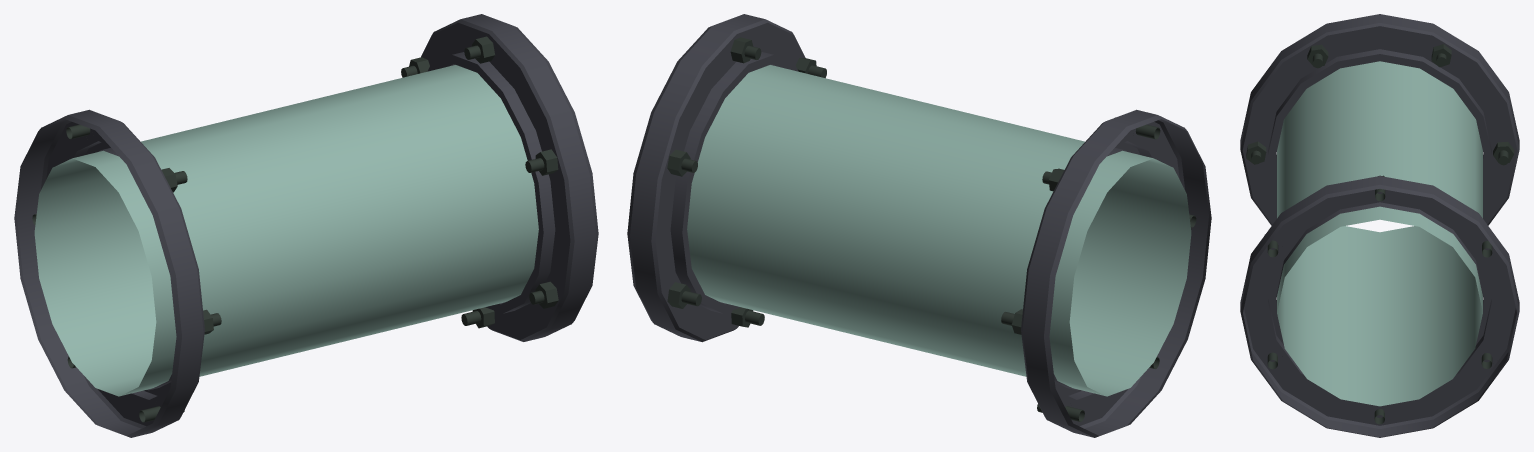
File: PipeComplexLarge_A2_Short_2_Alt.fbx
3 views of the same model, side by side, from view 1: azimuth 30°, elevation 25°; view 2: azimuth 150°, elevation 25°; view 3: azimuth 270°, elevation 25° (orthographic). The views are drawn at different scales.
Visible parts, largest first — view 1: PipeComplexLarge_A2_Short_2_Alt.001; view 2: PipeComplexLarge_A2_Short_2_Alt.001; view 3: PipeComplexLarge_A2_Short_2_Alt.001.
Boxes of the visible parts, box(x1,y1,x2,y2) form: PipeComplexLarge_A2_Short_2_Alt.001: box(14, 14, 598, 437); PipeComplexLarge_A2_Short_2_Alt.001: box(627, 14, 1211, 437); PipeComplexLarge_A2_Short_2_Alt.001: box(1240, 14, 1519, 437).
Size of the model in its own units: 0.4 by 0.2712 by 0.2712.
